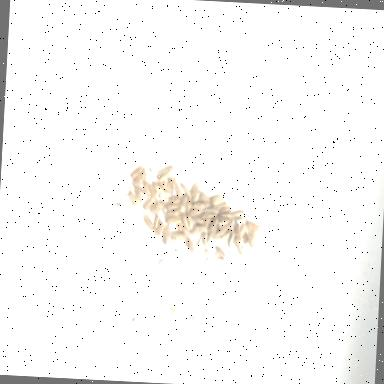pbw: (130, 166, 146, 188), (128, 161, 144, 180), (150, 198, 164, 216), (154, 219, 164, 243), (142, 212, 154, 231), (178, 182, 192, 198), (160, 223, 170, 245), (170, 229, 186, 242), (190, 224, 206, 237), (126, 190, 138, 207), (232, 237, 243, 255), (156, 170, 172, 182), (156, 164, 172, 176), (209, 194, 224, 206), (164, 214, 182, 224), (208, 216, 219, 232), (189, 206, 205, 217), (216, 224, 230, 236), (164, 201, 178, 213), (154, 182, 166, 196), (141, 196, 153, 210), (180, 212, 189, 230), (192, 200, 208, 210), (238, 222, 248, 238), (166, 207, 180, 218), (226, 230, 234, 249), (184, 236, 194, 251), (178, 195, 188, 210), (142, 179, 150, 197), (228, 208, 246, 216), (186, 212, 194, 230), (152, 213, 160, 230), (191, 189, 201, 202), (194, 214, 204, 225), (168, 195, 180, 204), (218, 204, 230, 213), (234, 222, 240, 240), (219, 212, 233, 219), (186, 198, 192, 212)
